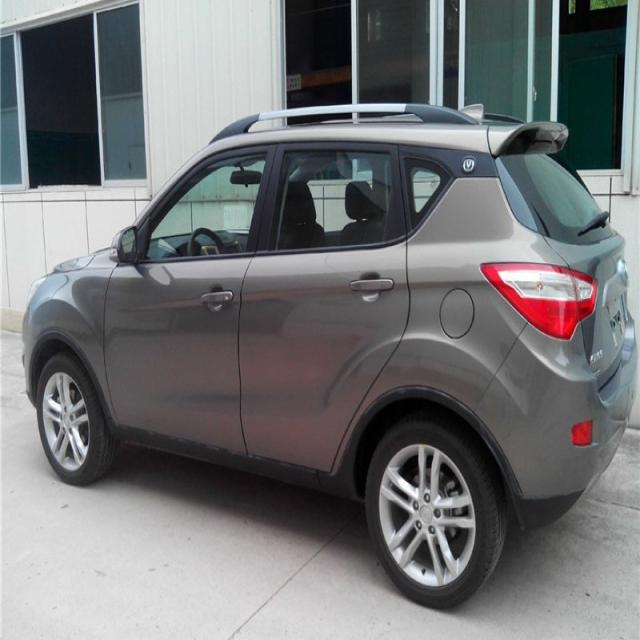back_glass: (493, 134, 614, 246)
back_left_side_light: (478, 260, 598, 344)
door: (238, 133, 414, 465)
front_left_side_door: (102, 140, 282, 459)
front_left_side_mirror: (110, 224, 140, 266)
rear_bumper: (469, 306, 639, 530)
wheel: (364, 419, 496, 606), (38, 354, 107, 484)
